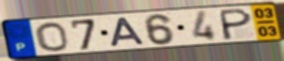4: (190, 9, 218, 43)
6: (142, 13, 177, 46)
7: (69, 18, 98, 52)
A: (108, 16, 147, 48)
O: (33, 21, 71, 53)
P: (220, 7, 254, 41)
